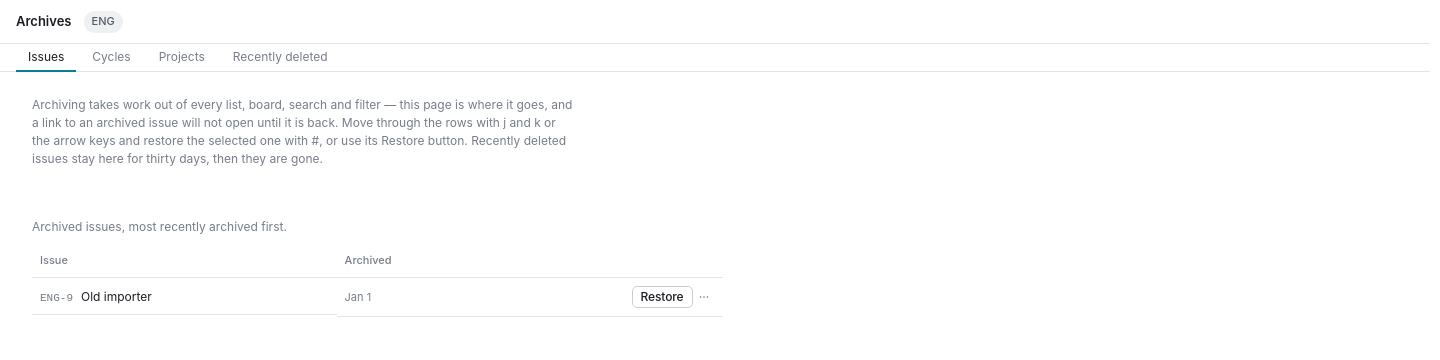
Test: Archives › takes the restore confirmation away when the tab changes
The image size is (1440, 360).
Click the button with aria-label "Restore ENG-9" at (662, 296), box [632,286,692,308]
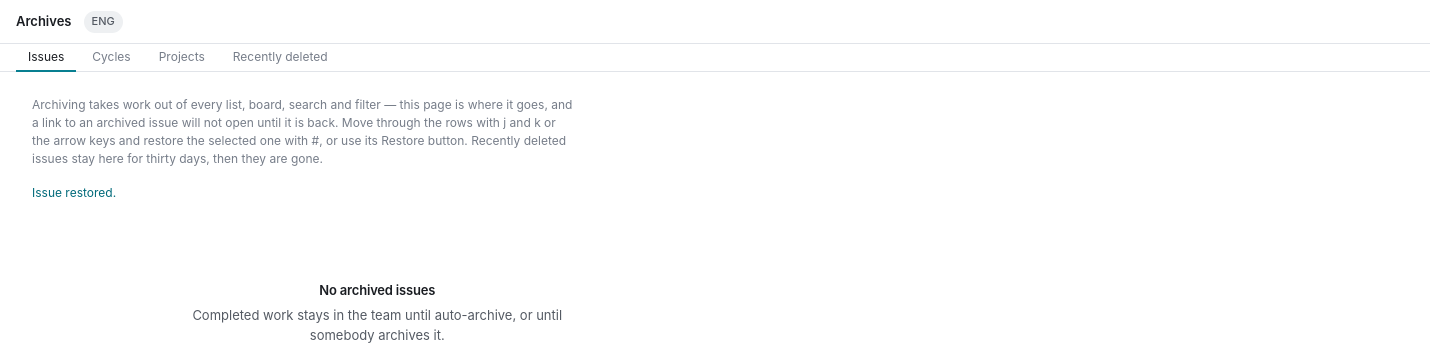
expect the text "Issue restored." is shown: met, box [32,185,116,200]
Click the button "Cycles" at (112, 58), box [80,44,143,72]
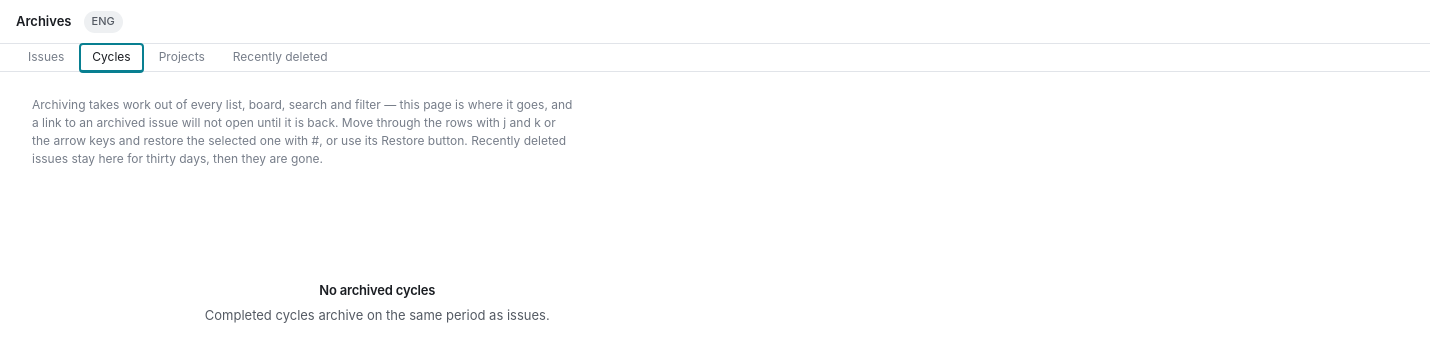
expect the text "No archived cycles" is shown: met, box [319,282,435,298]
expect the text "Issue restored." is gone: met
